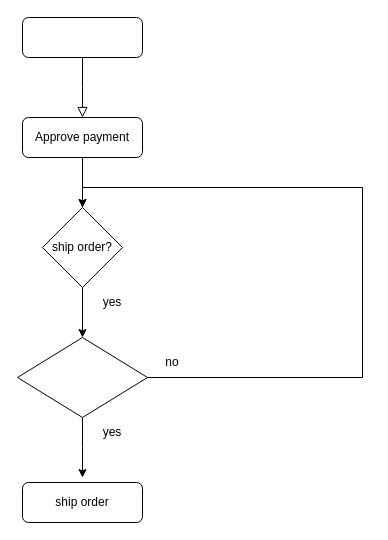
Image size: 388x540. Some labels were removed from this diagram. Here are the shapes that lost their labels. From the top down, the centre of each, then its label:
the point at 82,37: new shopping order is order pending
the point at 82,377: order payment approve?
